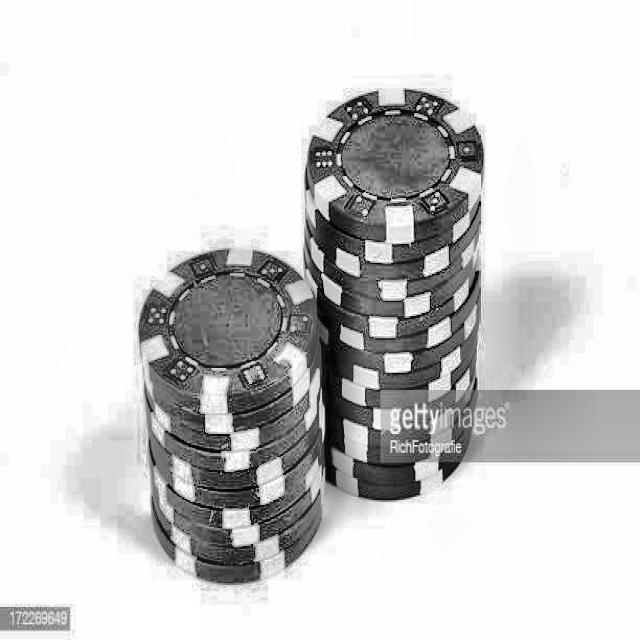Chip: (287, 81, 497, 506), (120, 228, 331, 590)
